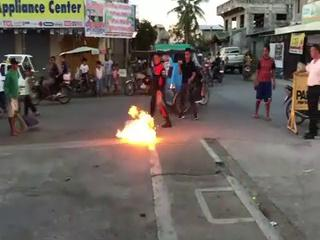Fire: (114, 106, 158, 145)
